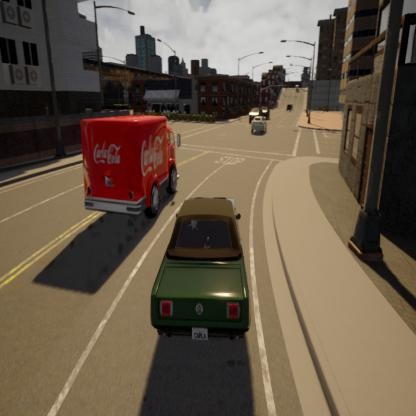Cars: (152, 198, 252, 340), (79, 117, 178, 216), (252, 118, 268, 136), (250, 104, 260, 119), (284, 102, 293, 115), (262, 106, 270, 120), (293, 84, 301, 93)
